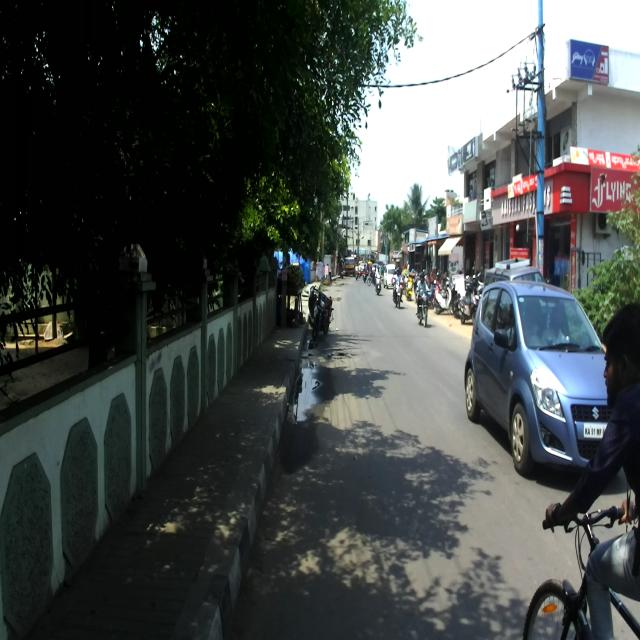car ahead at: (466, 277, 596, 468)
motorcycle ahead at: (306, 280, 335, 346)
